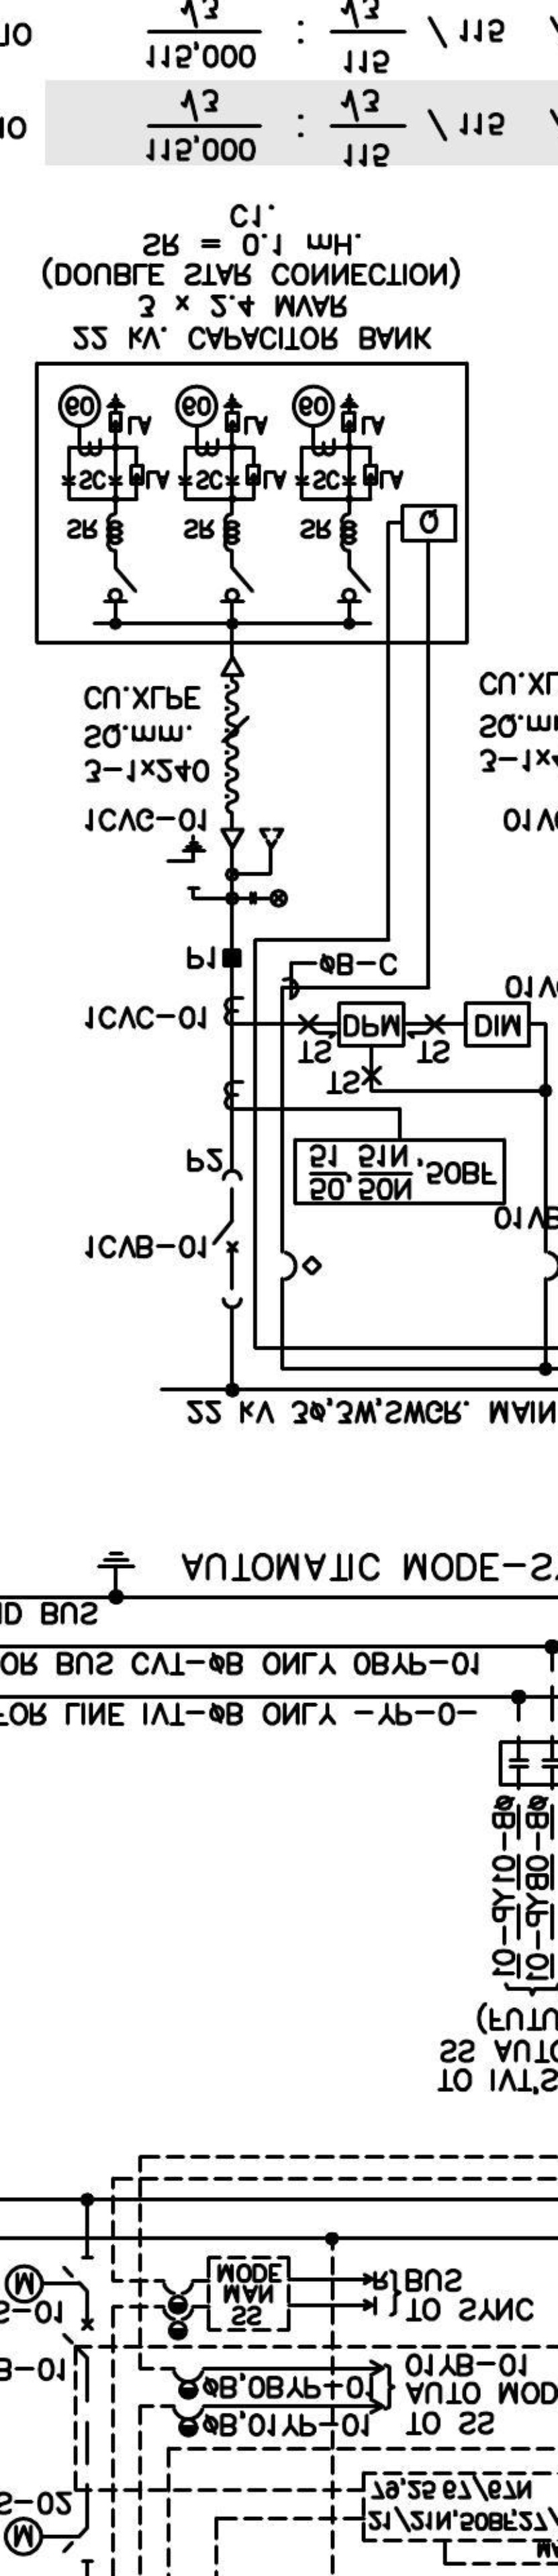22_breaker: (212, 1168, 245, 1311)
22_cap_bank: (33, 360, 469, 646)
22_gs: (164, 833, 208, 890)
22_ll: (248, 887, 289, 908)
DIM: (463, 1001, 533, 1048)
DPM: (336, 1001, 407, 1048)
Q: (399, 503, 458, 544)
terminator_single: (220, 655, 246, 678)
terminator_w_future: (218, 826, 286, 877)
